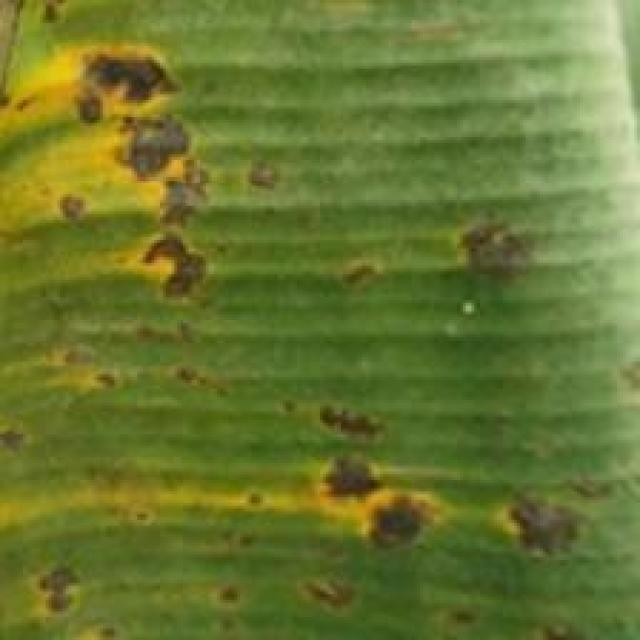Downey_mildrew: (0, 0, 640, 640), (1, 403, 600, 609), (3, 0, 306, 357), (373, 173, 582, 341)
